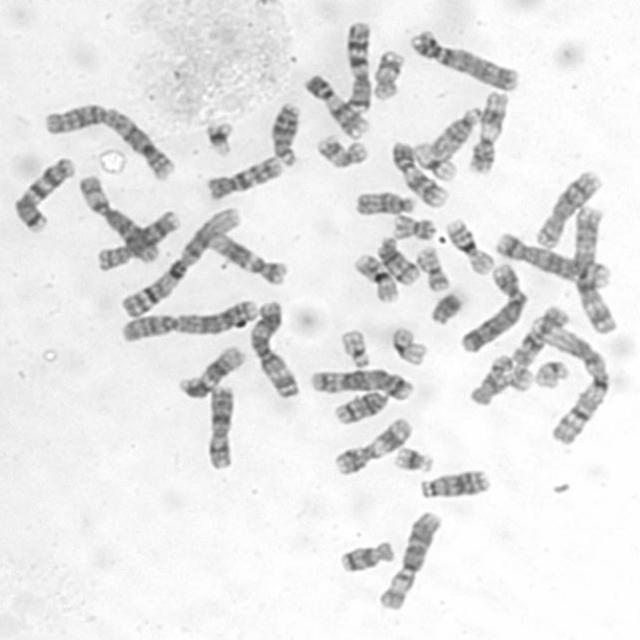A1: (116, 203, 244, 320), (530, 316, 613, 448)
A2: (40, 98, 178, 180), (115, 294, 262, 343)
A3: (569, 200, 620, 336), (245, 297, 302, 400)
B4: (407, 25, 522, 92), (457, 258, 529, 354)
B5: (491, 228, 613, 286), (306, 363, 416, 403)
C10: (501, 302, 572, 394), (202, 152, 286, 202)
C11: (330, 412, 416, 476), (465, 84, 511, 176)
C12: (206, 230, 292, 287), (175, 342, 248, 400)
C6: (73, 170, 162, 264), (374, 506, 444, 612)
C7: (8, 151, 79, 235), (342, 15, 376, 113)
C8: (93, 204, 184, 273), (531, 165, 605, 249)
C9: (299, 69, 372, 139), (388, 138, 450, 208)
D13: (266, 96, 304, 166), (414, 464, 490, 499)
D14: (328, 382, 392, 427), (372, 231, 422, 286)
D15: (422, 102, 484, 162), (351, 186, 418, 216)
E16: (442, 213, 498, 276), (348, 247, 402, 304)
E17: (312, 131, 371, 170), (370, 45, 408, 102)
E18: (465, 351, 516, 408), (336, 535, 396, 575)
F19: (410, 137, 460, 183), (386, 321, 431, 367)
F20: (412, 242, 452, 292), (388, 210, 438, 240)
G21: (198, 115, 236, 158), (390, 443, 436, 473)
G22: (336, 323, 372, 369), (530, 354, 570, 389)
X: (204, 382, 238, 471)
Y: (426, 288, 466, 326)
